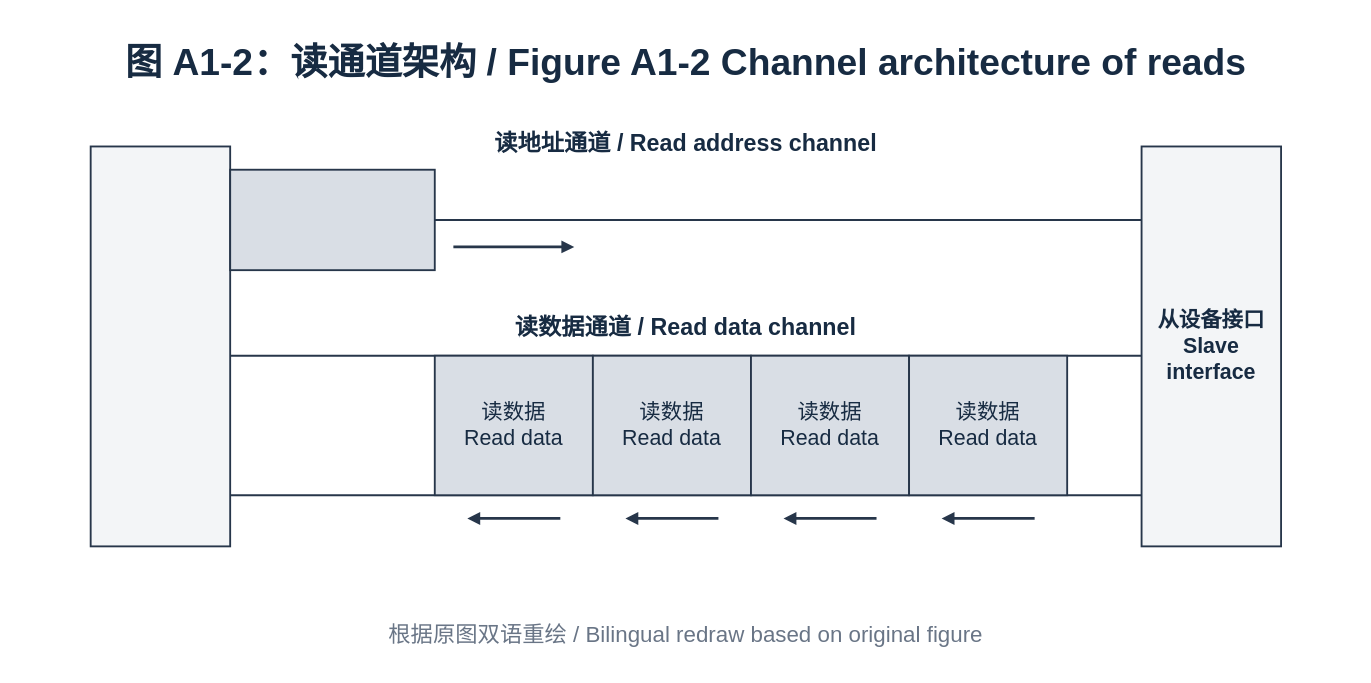
This 1371x683 diagram has some shape labels left out. Each missing label, with the centre of its shape:
"主设备接口 Master interface" goes at [160,346].
"地址和控制 Address and control" goes at [332,219].
